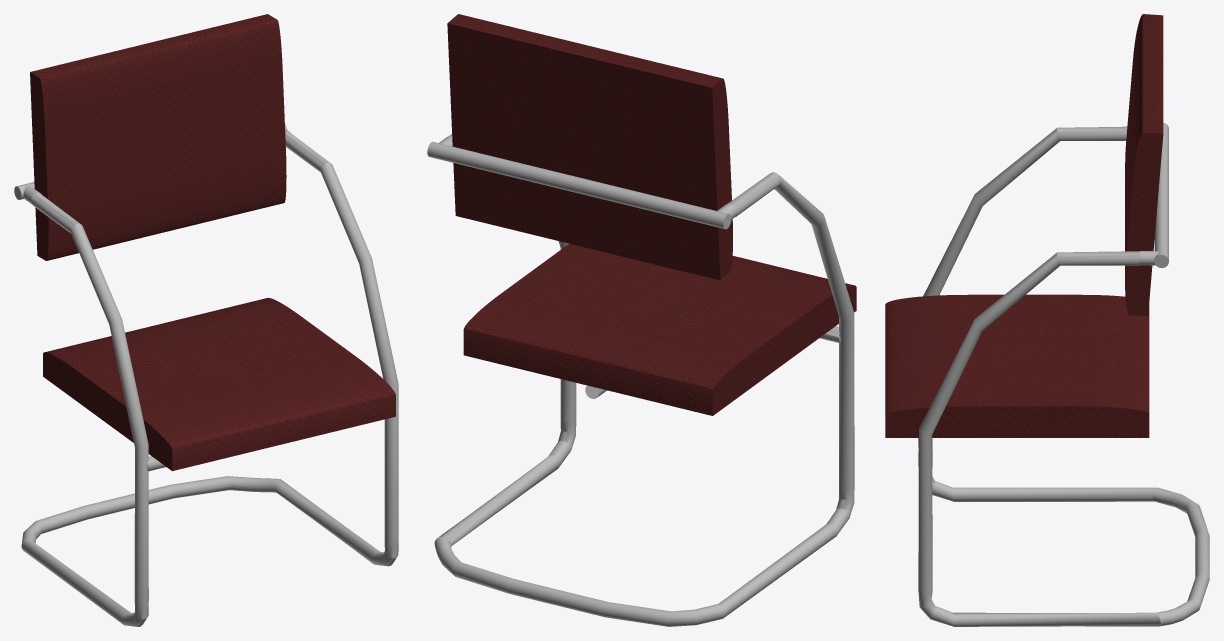
File: chair.fbx
3 views of the same model, side by side, from view 1: azimuth 30°, elevation 25°; view 2: azimuth 150°, elevation 25°; view 3: azimuth 270°, elevation 25° (orthographic). The views are drawn at different scales.
Visible parts, largest first — view 1: Cube; view 2: Cube; view 3: Cube.
Part boxes in pixels (x1,y1,x2,y2): Cube: (14, 14, 398, 626); Cube: (427, 14, 856, 626); Cube: (885, 14, 1209, 626).
Size of the model in its own units: 238 by 412 by 246.
